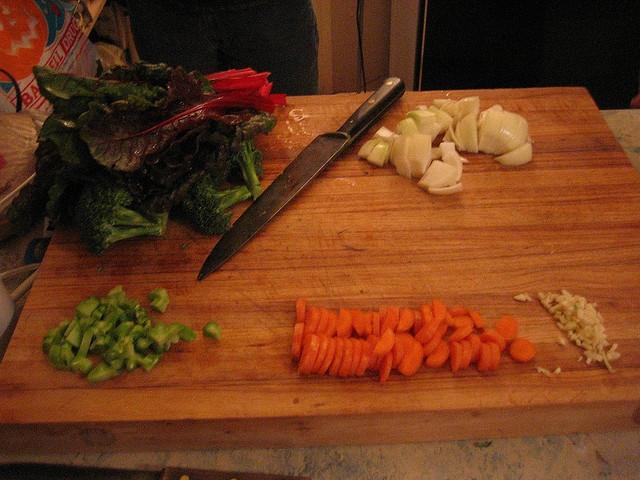broccoli: (74, 184, 168, 255), (178, 174, 252, 234), (230, 139, 262, 200)
carrot: (397, 341, 424, 377), (298, 334, 320, 376), (424, 338, 450, 368), (508, 338, 538, 363), (310, 333, 328, 374), (318, 336, 336, 376), (338, 336, 353, 378), (496, 316, 518, 344), (328, 336, 343, 377), (479, 330, 506, 352), (356, 340, 372, 377), (290, 322, 304, 362), (348, 338, 362, 378), (304, 305, 320, 339), (465, 333, 482, 364), (379, 349, 394, 384), (421, 333, 442, 358), (396, 307, 415, 334), (484, 340, 500, 372), (456, 338, 472, 370), (392, 334, 406, 370), (348, 309, 366, 336), (337, 308, 353, 338), (476, 342, 492, 372), (380, 306, 396, 335), (366, 334, 378, 372), (448, 325, 474, 342), (323, 310, 338, 338), (468, 310, 486, 333), (314, 308, 328, 336), (450, 342, 462, 373), (432, 298, 447, 322), (418, 304, 432, 328), (452, 314, 473, 328), (296, 296, 306, 324), (378, 306, 388, 334), (362, 311, 372, 338), (372, 311, 381, 337), (413, 310, 422, 336), (373, 356, 385, 372), (436, 322, 448, 338), (398, 310, 404, 320)
celery: (42, 320, 70, 354), (146, 322, 184, 346), (87, 360, 124, 382), (77, 327, 98, 357), (69, 355, 94, 376), (48, 345, 68, 369), (80, 314, 98, 338), (66, 322, 82, 348), (147, 287, 170, 305), (90, 335, 111, 354), (112, 321, 134, 338), (102, 354, 125, 370), (203, 322, 222, 340), (65, 316, 79, 336), (96, 321, 112, 338), (107, 285, 123, 298), (104, 303, 112, 314), (91, 295, 100, 303)
garlic: (494, 110, 522, 153), (418, 160, 458, 189), (409, 134, 432, 179), (571, 315, 586, 329), (584, 315, 596, 327), (590, 325, 600, 335), (563, 305, 571, 310)
onion: (493, 114, 528, 154), (488, 112, 520, 154), (417, 160, 459, 192), (478, 110, 504, 154), (389, 132, 412, 180), (493, 142, 534, 166), (460, 110, 479, 152), (405, 110, 436, 134), (441, 150, 463, 182), (366, 142, 391, 168), (409, 134, 432, 160), (358, 139, 382, 160), (448, 122, 464, 152), (428, 182, 463, 195), (370, 126, 393, 143), (400, 118, 420, 137), (466, 96, 480, 116), (433, 99, 458, 110), (440, 142, 455, 158), (395, 123, 402, 136)
